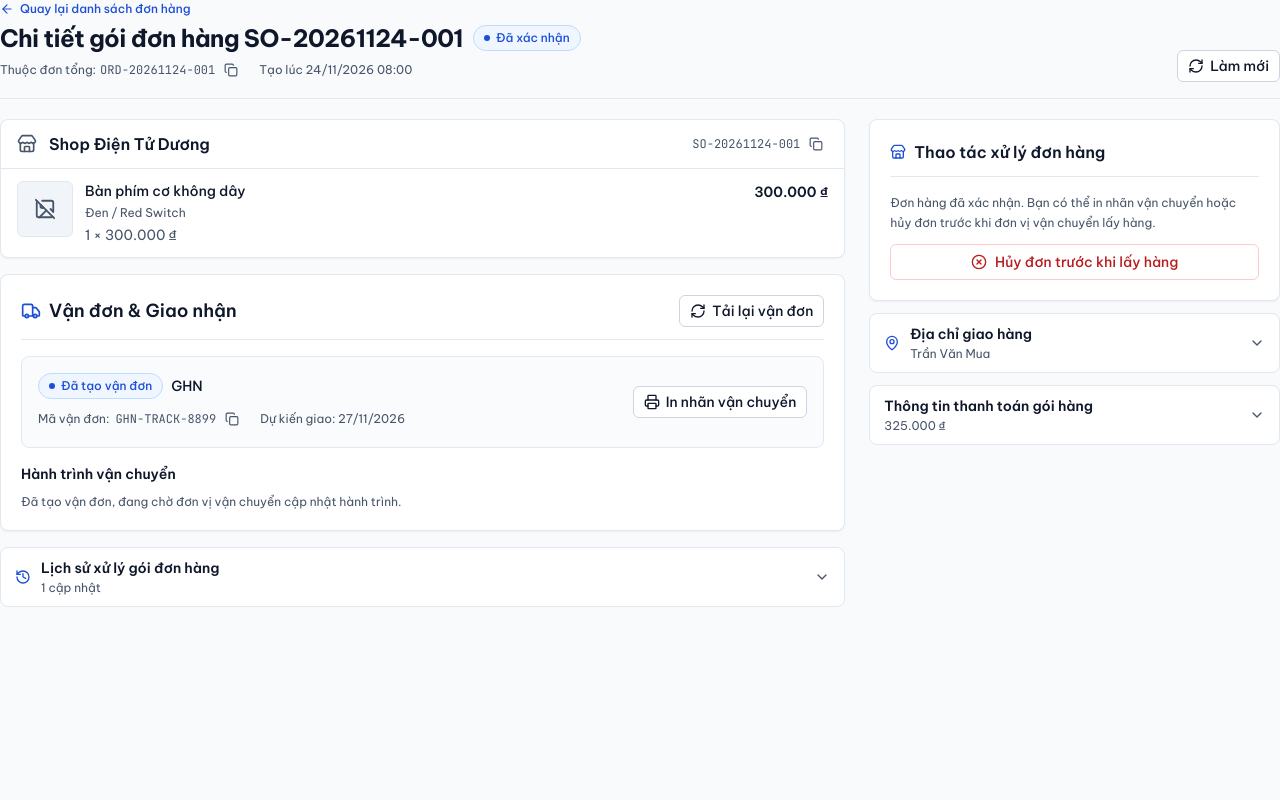
Test: T4-08: Seller Order Detail (/seller/orders/:id) › prints shipping label via GET /v1/shipments/{id}/label
This screenshot has width=1280, height=800.
Click the button "In nhãn vận chuyển".
click(720, 402)  # box [633,386,807,418]
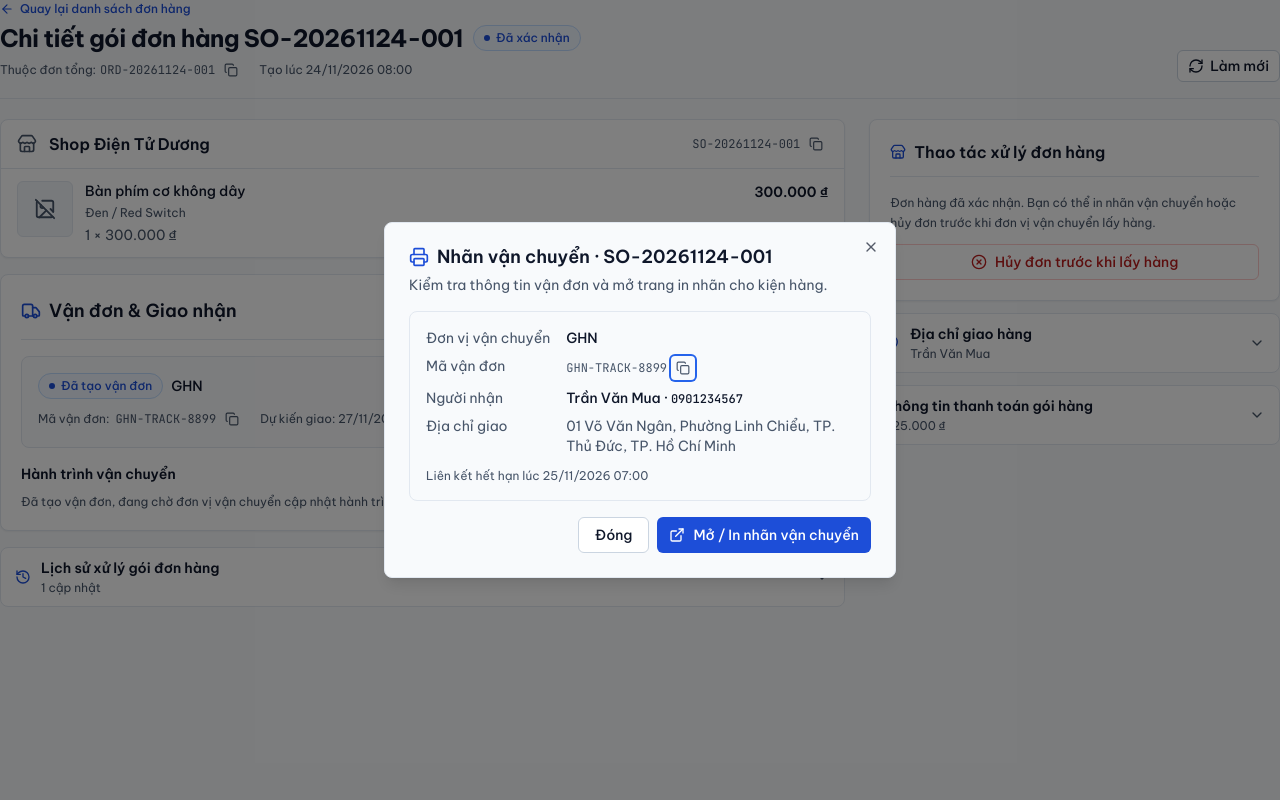
Check: the dialog shows "GHN-TRACK-8899", box [566,360,667,376]
